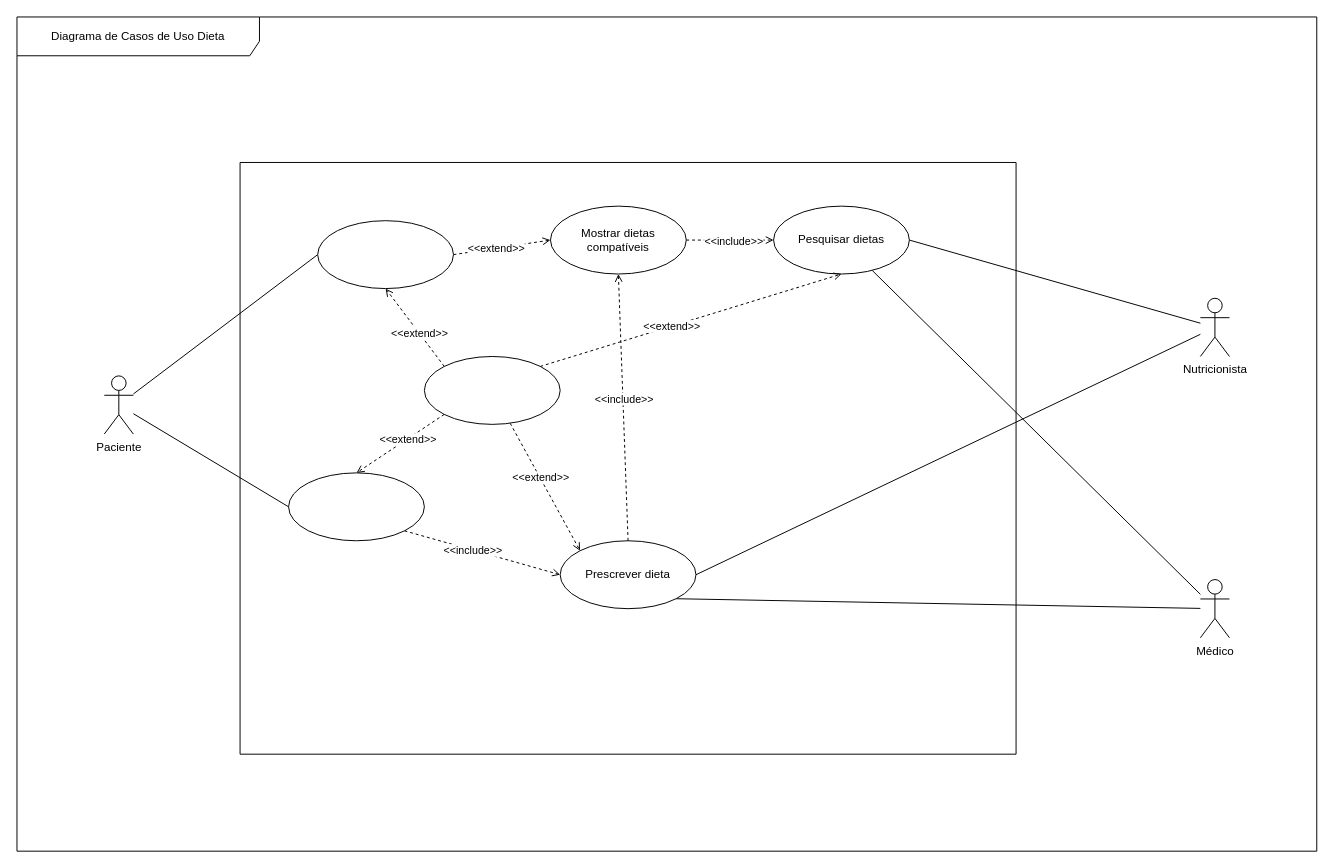
Image size: 1334x868. Some labels were removed from this diagram. The shapes that lost their labels are listed below. From the top down, each one's centre as x and y in pixels, then its label:
At (385,254): "Manter Dados antropométricos".
At (491,390): "Login".
At (356,506): "Solicitar dieta".
